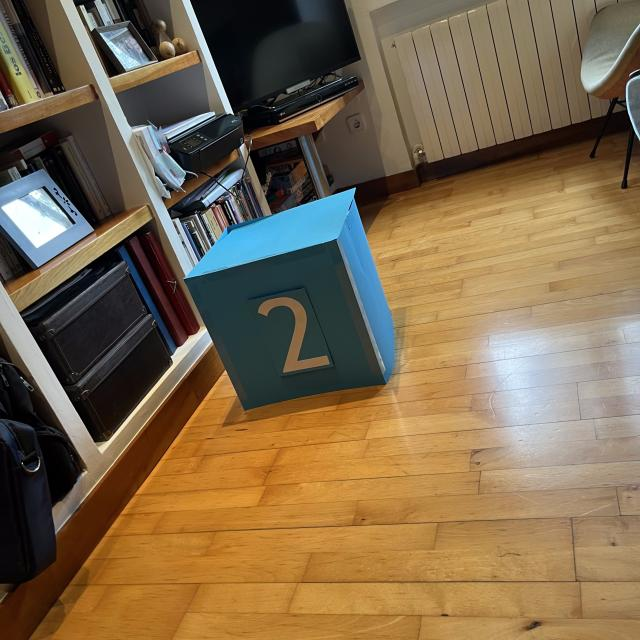box: (181, 185, 400, 412)
